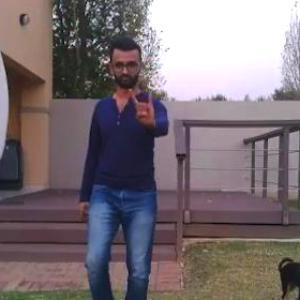takeoff-hand: (119, 80, 166, 132)
